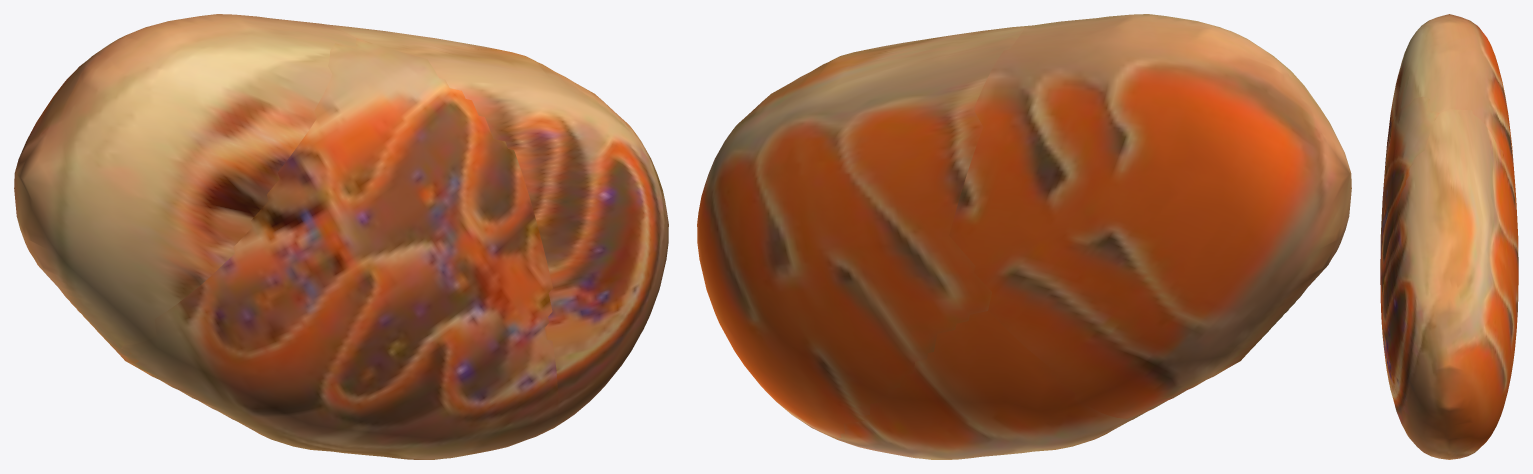
File: PRP_Mitochondrion_lod.glb
3 renders of one model, left to right at view 1: azimuth 30°, elevation 25°; view 2: azimuth 150°, elevation 25°; view 3: azimuth 270°, elevation 25°, orthographic. The views are drawn at different scales.
Visible parts, largest first — view 1: Object_5; view 2: Object_5; view 3: Object_5.
Part boxes in pixels (x1,y1,x2,y2): Object_5: [14, 14, 668, 459]; Object_5: [697, 14, 1351, 459]; Object_5: [1380, 14, 1518, 459].
Bounding box in the file's own units: 0.4064 × 0.2962 × 0.1154.
Materials: 1 (1 with a texture image).
